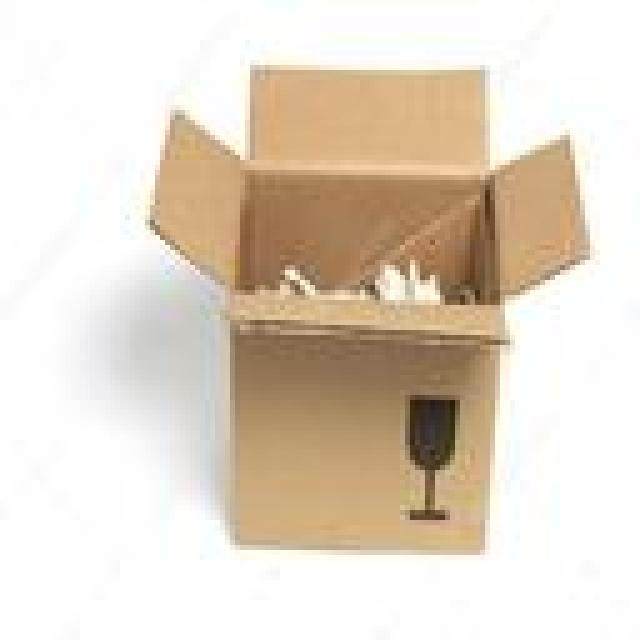Cardboard: (145, 73, 592, 561)
